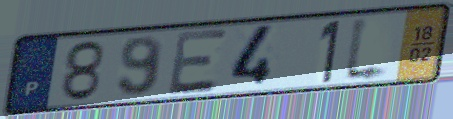1: (318, 18, 342, 85)
4: (227, 22, 280, 92)
8: (60, 38, 107, 102)
9: (116, 34, 164, 99)
E: (167, 26, 232, 97)
L: (340, 12, 393, 86)
